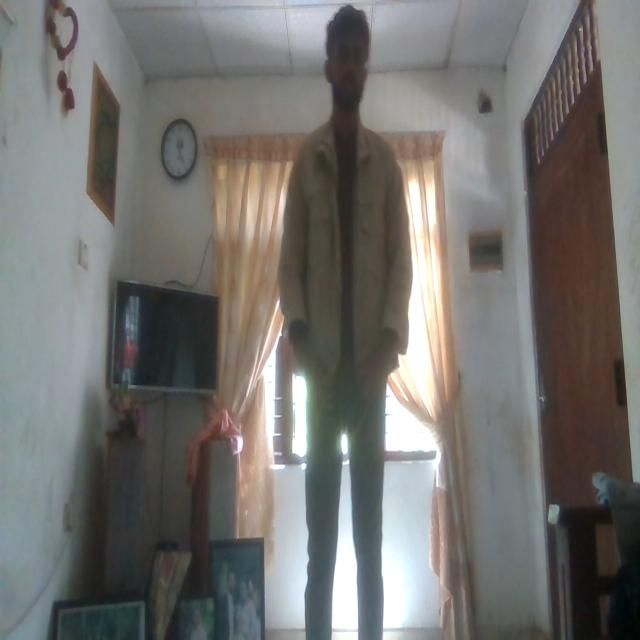Jacket_Wearer: (285, 128, 413, 405)
Person: (280, 20, 412, 612)
